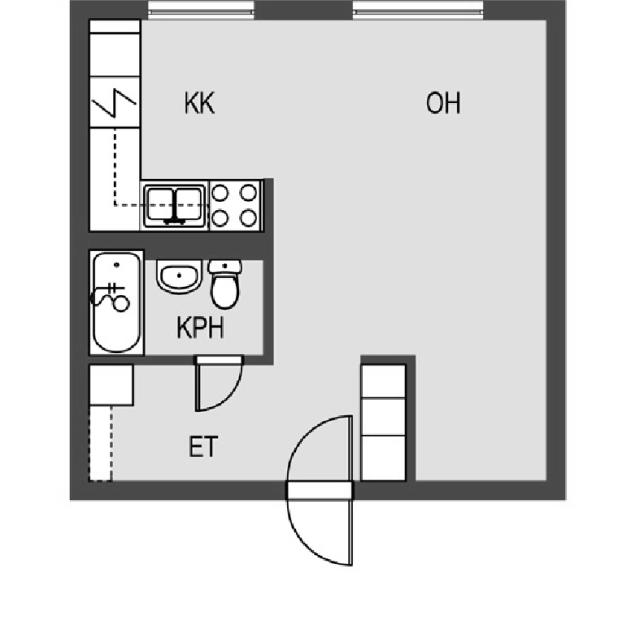door: (279, 407, 355, 569), (192, 354, 241, 415)
window: (83, 14, 577, 230), (73, 359, 367, 489), (400, 224, 545, 481), (79, 243, 269, 359), (341, 1, 493, 22), (141, 2, 260, 22)
